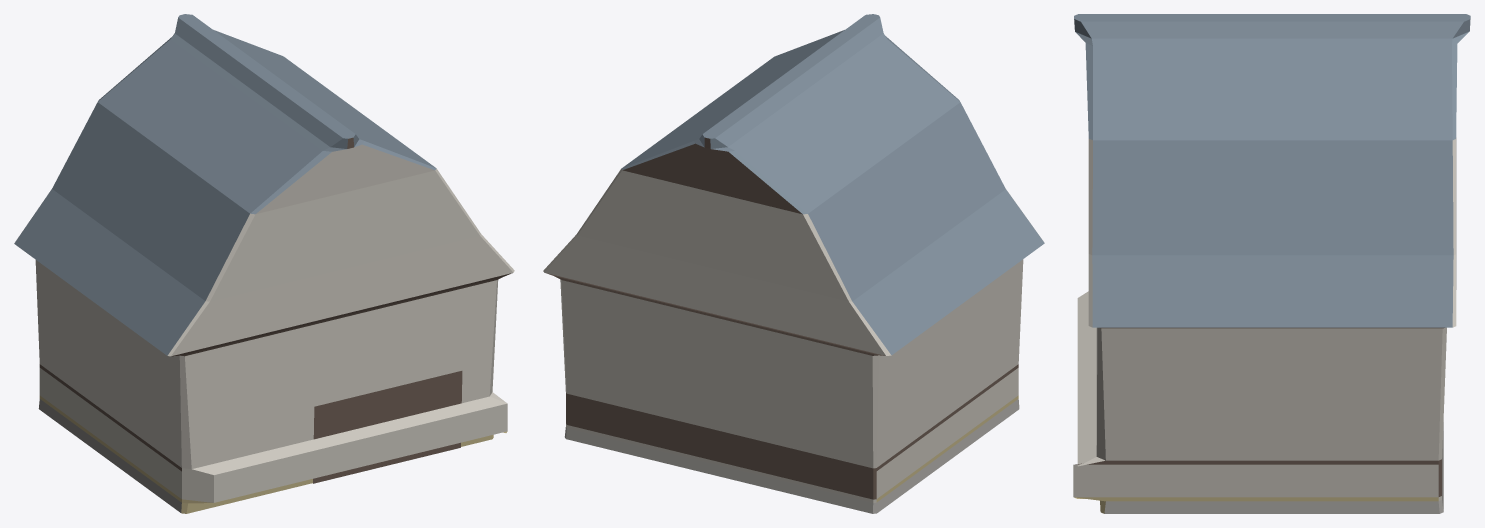
File: loin.glb
3 views of the same model, side by side, from view 1: azimuth 30°, elevation 25°; view 2: azimuth 150°, elevation 25°; view 3: azimuth 270°, elevation 25° (orthographic). The views are drawn at different scales.
Parts seen in each view (by area): view 1: loin; view 2: loin; view 3: loin.
Boxes of the visible parts, bbox=[...] form: loin: bbox=[14, 14, 514, 513]; loin: bbox=[543, 14, 1044, 513]; loin: bbox=[1073, 14, 1470, 513].
Bounding box in the file's own units: 0.8877 × 0.8449 × 0.7465.
